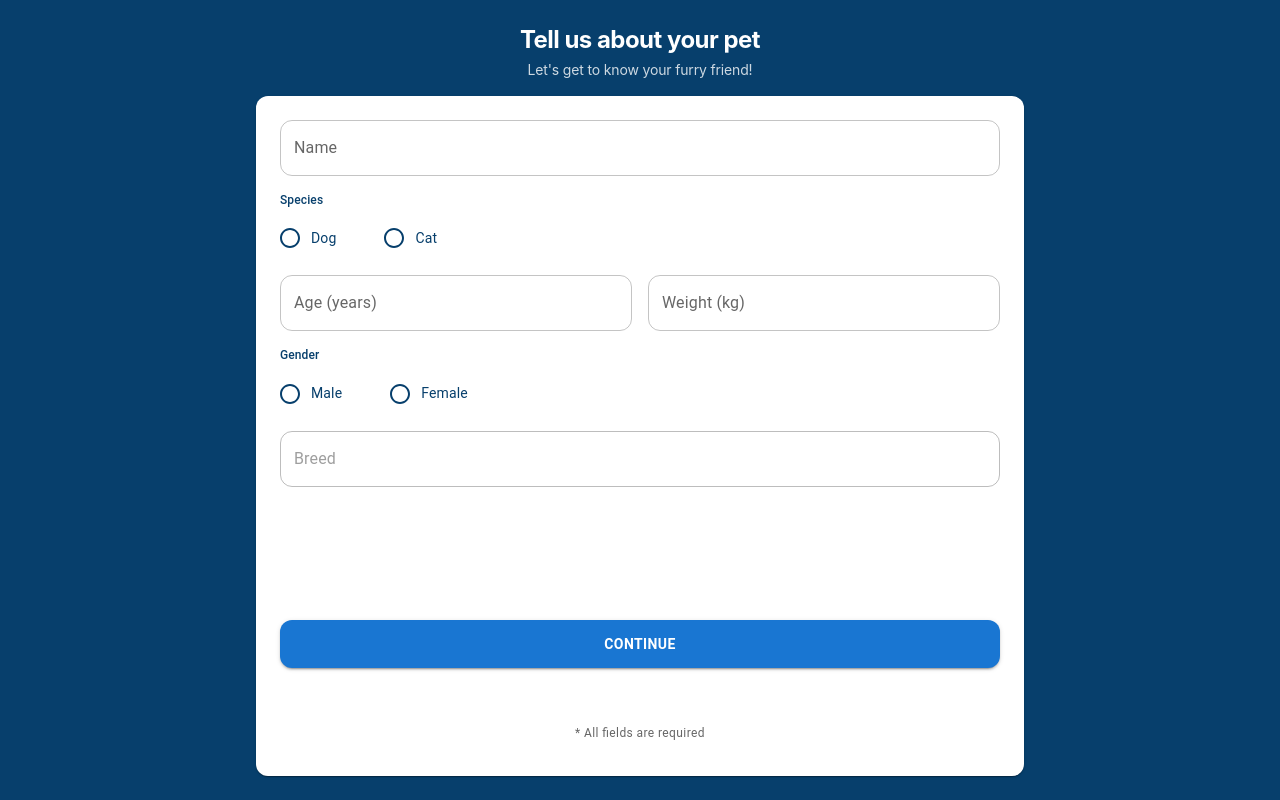
Test: AddPetPage › should show error when submitting empty form
Click the button "Continue" at (640, 644), box [280,620,1000,668]
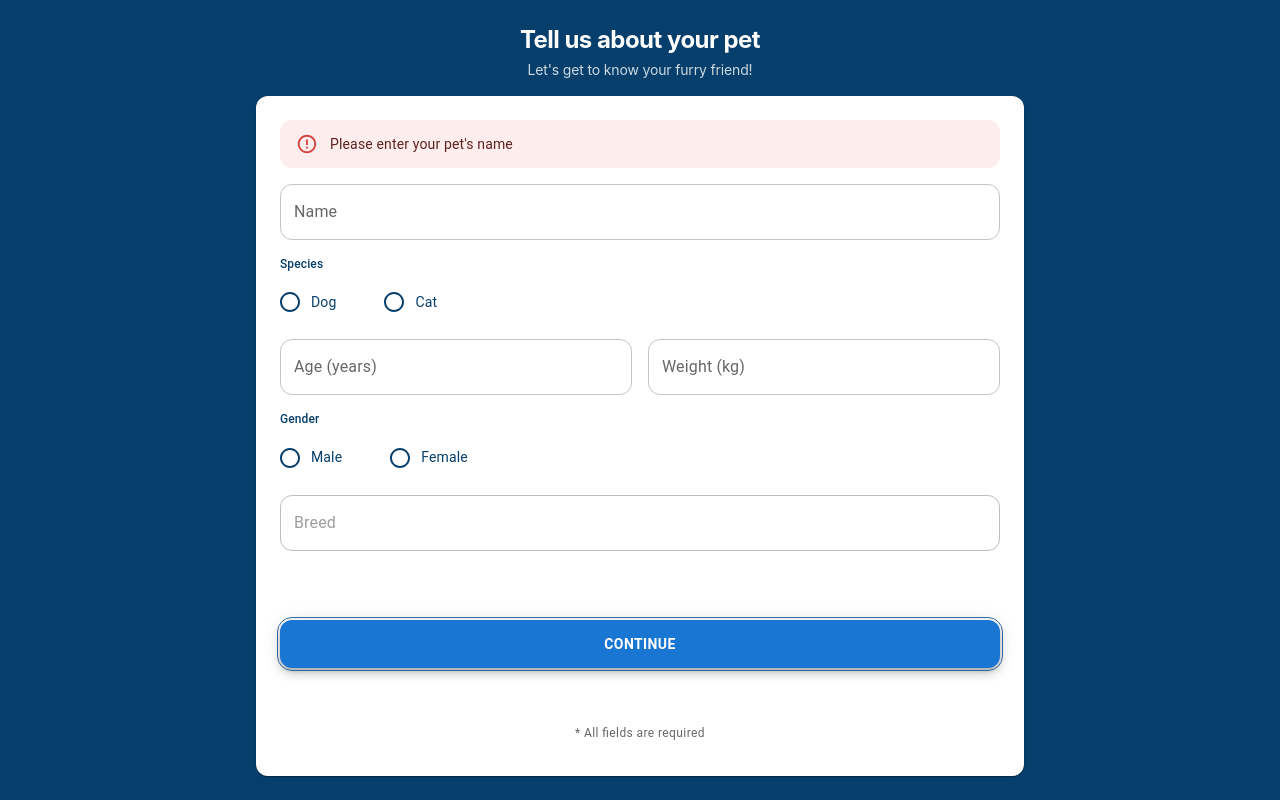
Result: the text "Please enter your pet's name" is shown at [330,136,513,152]
